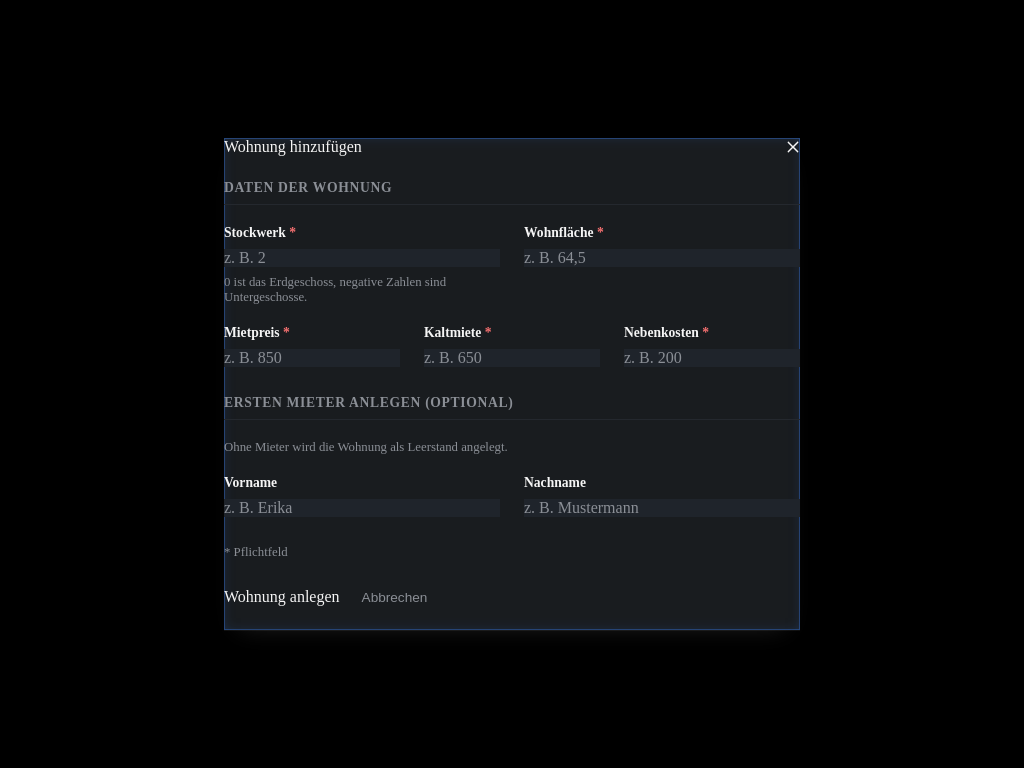
Test: ApartmentFormDialog › creating an apartment › stays open and shows an error when saving fails
In the number field with id "apartment-floor": {"x": 362, "y": 258} left=224, top=249, right=500, bottom=267, type "2"
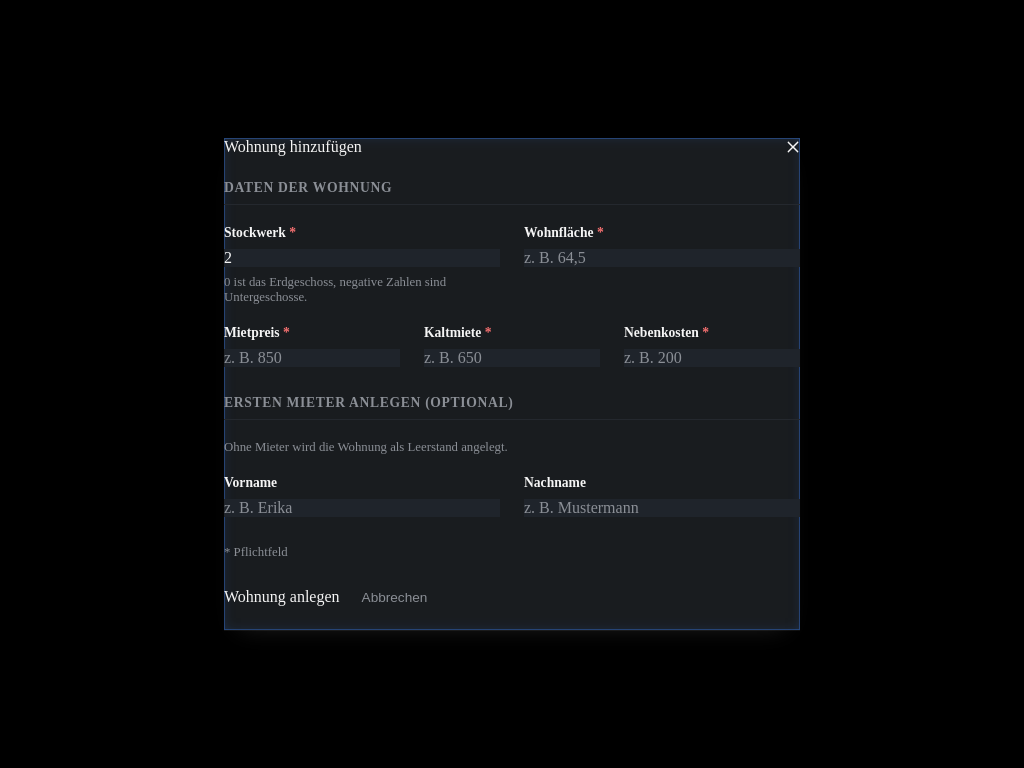
In the number field with id "apartment-area": {"x": 662, "y": 258} left=524, top=249, right=800, bottom=267, type "64,5"
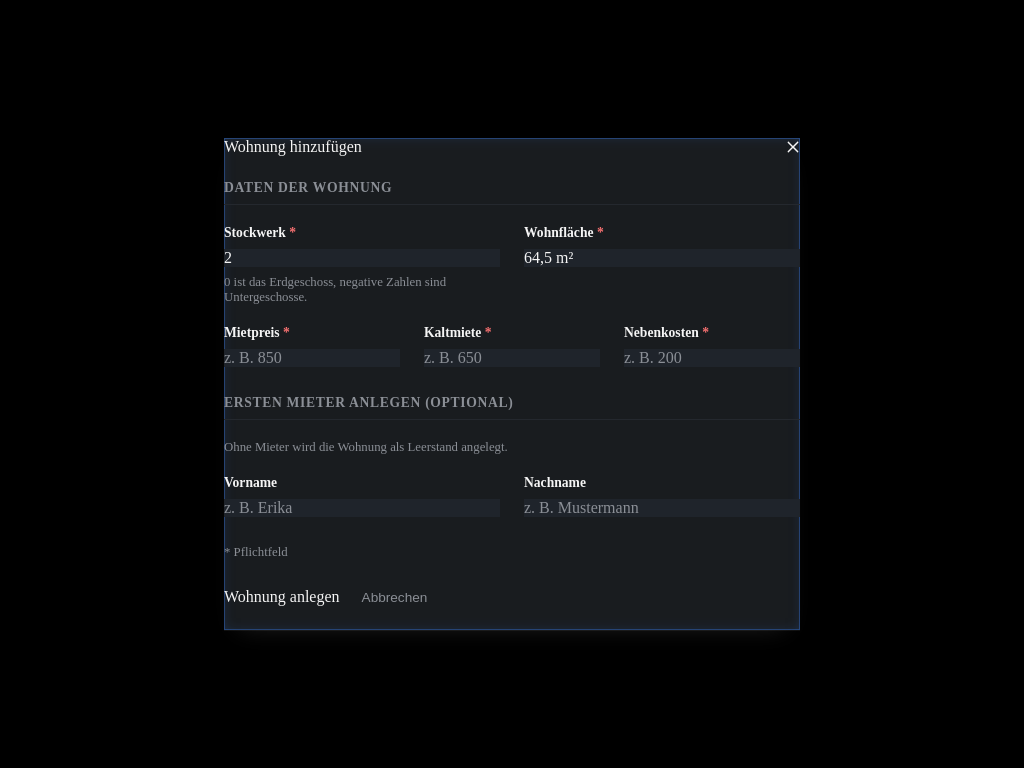
In the number field with id "apartment-totalRent": {"x": 312, "y": 358} left=224, top=349, right=400, bottom=367, type "850"
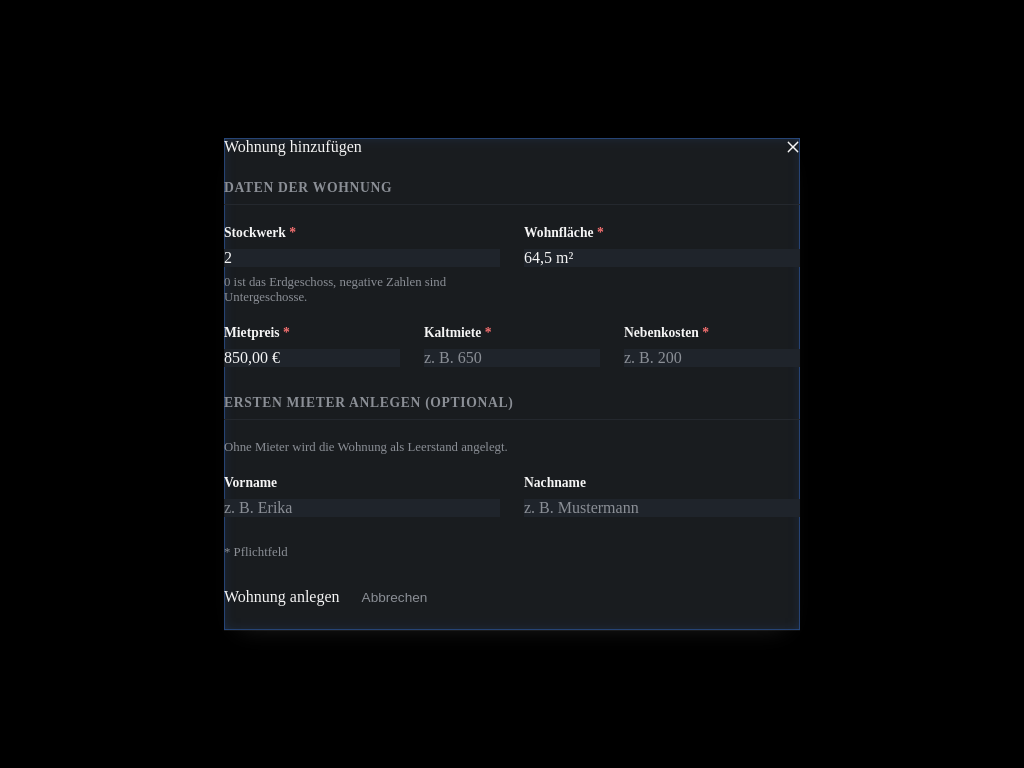
In the number field with id "apartment-coldRent": {"x": 512, "y": 358} left=424, top=349, right=600, bottom=367, type "650"
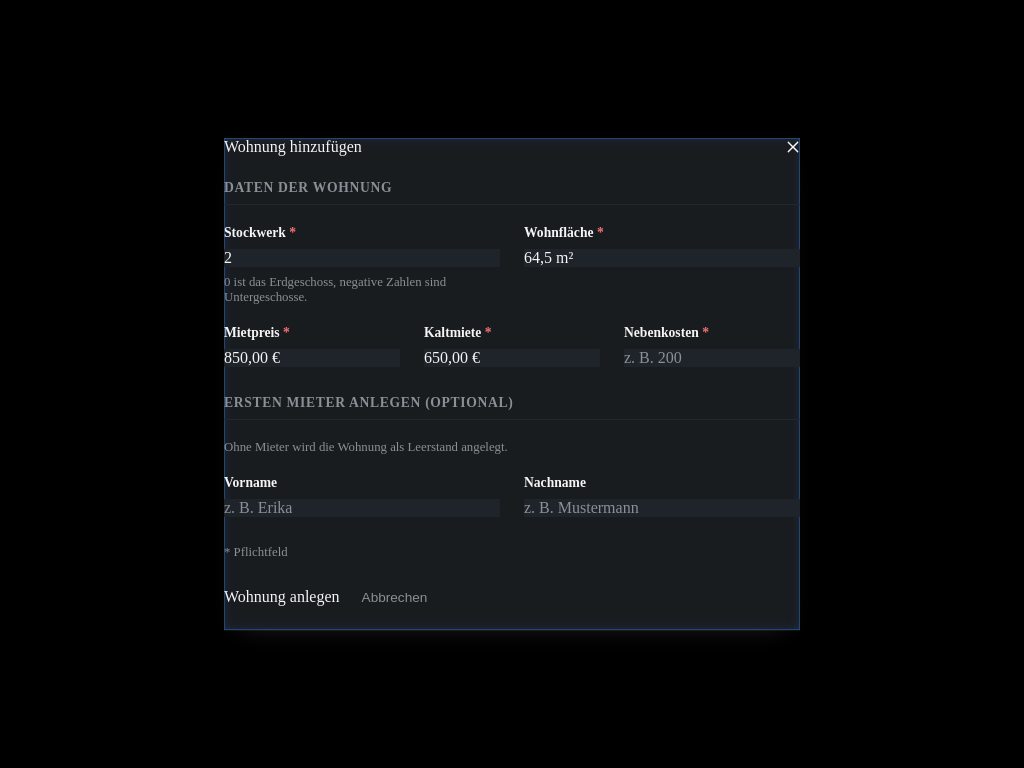
In the number field with id "apartment-additionalCosts": {"x": 712, "y": 358} left=624, top=349, right=800, bottom=367, type "200"
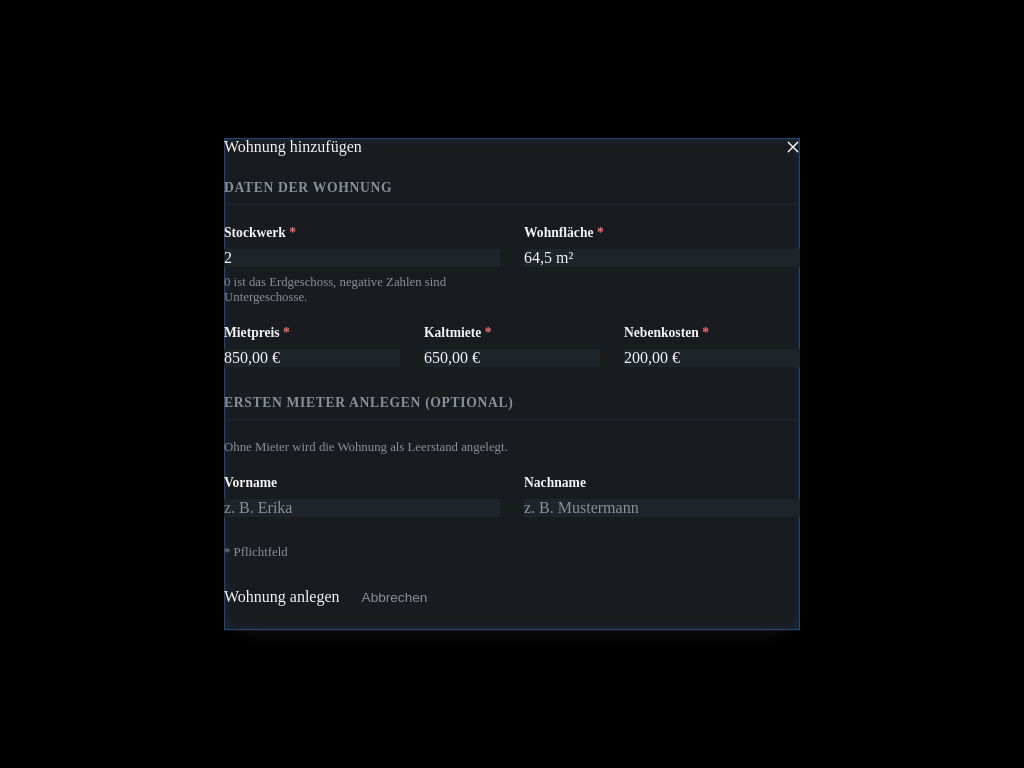
Click the button "Wohnung anlegen": {"x": 282, "y": 597} left=224, top=588, right=340, bottom=606
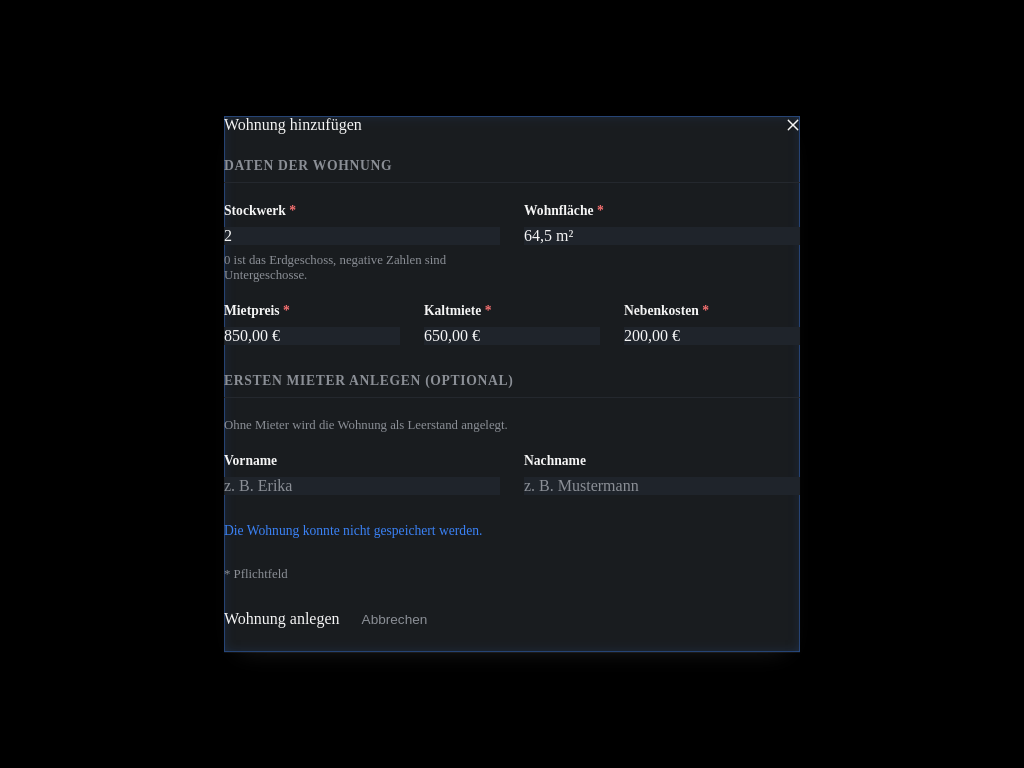
Result: the text with class "apartment-form-dialog__error" reads "Die Wohnung konnte nicht gespeichert werden." at left=224, top=523, right=482, bottom=538
